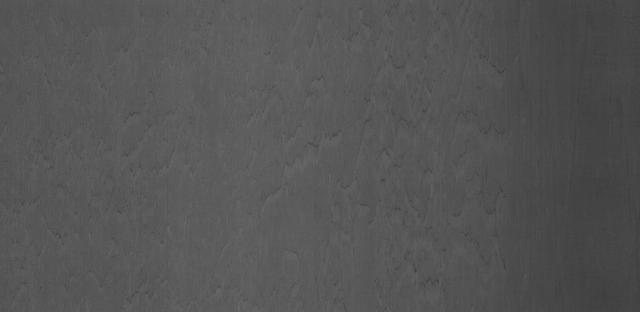silk_spot: (253, 54, 428, 236), (437, 30, 539, 264)
